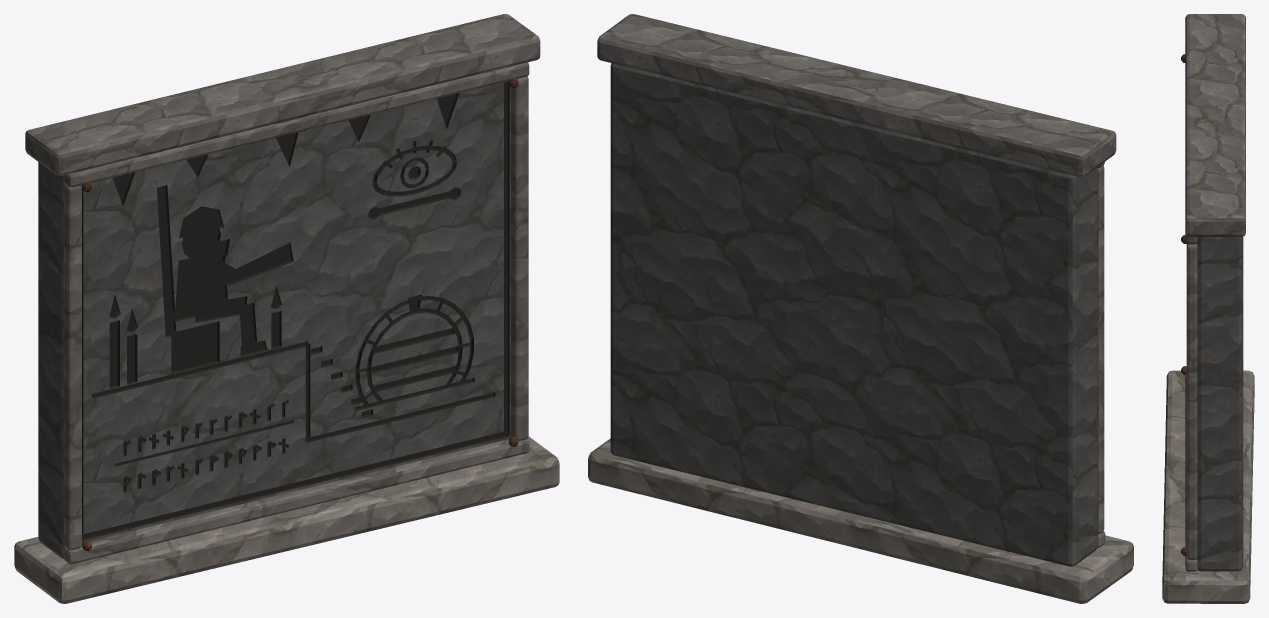
Rendered from vo_relief_last_watch.glb.
The picture shows the model from 3 angles, left to right: view 1: azimuth 30°, elevation 25°; view 2: azimuth 150°, elevation 25°; view 3: azimuth 270°, elevation 25°; orthographic projection. The views are drawn at different scales.
Parts seen in each view (by area): view 1: model; view 2: model; view 3: model.
Part boxes in pixels (x1,y1,x2,y2): model: [14, 14, 559, 603]; model: [588, 14, 1133, 603]; model: [1162, 14, 1254, 603].
Bounding box in the file's own units: 1.73 × 1.47 × 0.3189.
Materials: 5 (4 with a texture image).
